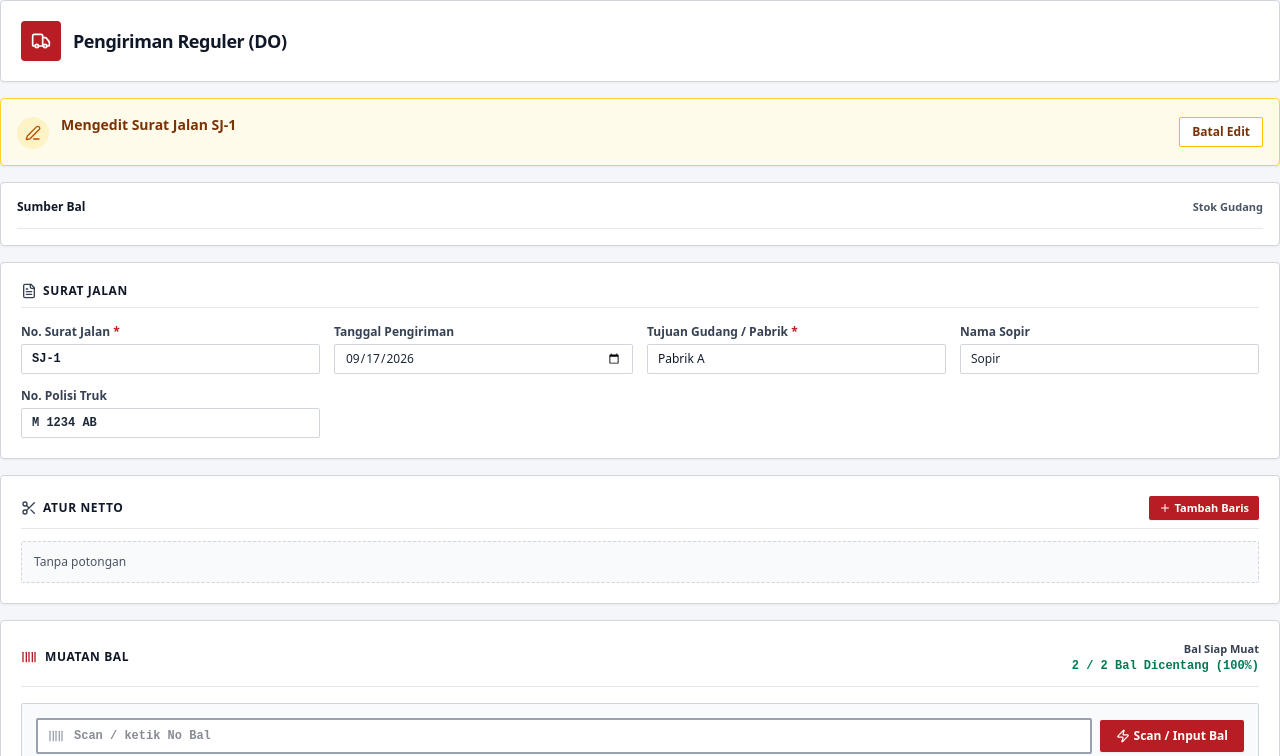
Test case: Pengiriman Reguler: mode edit Surat Jalan yang belum Selesai › Batal Edit mengosongkan formulir dan menutup mode edit
The width and height of the screenshot is (1280, 756).
What coordinates should you click on to do the following:
click the button "Batal Edit"
I would click on:
 (1221, 132)
Its box is [1179,117,1263,147].
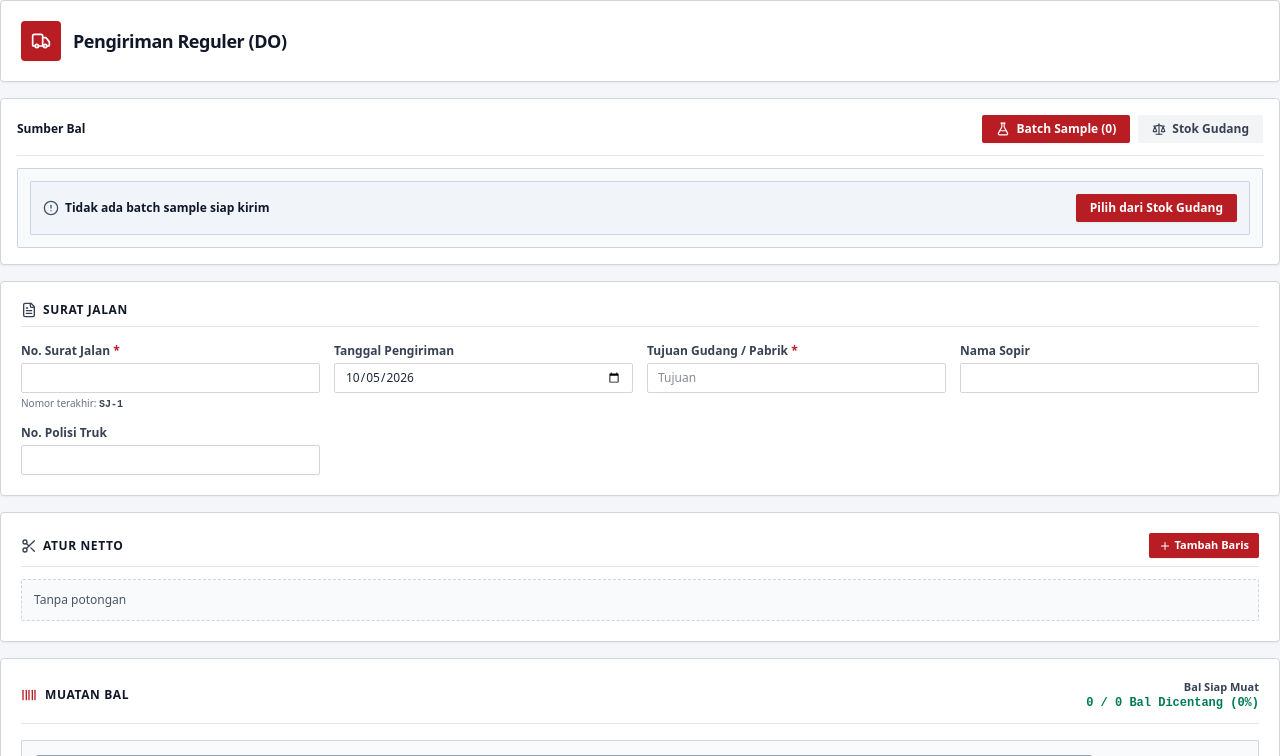
expect the heading "Mengedit Surat Jalan SJ-1" is gone: met
